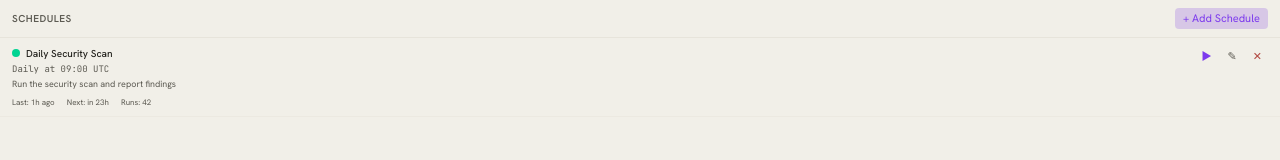
ScheduleTab › shows error when toggle fails
This screenshot has width=1280, height=160.
Click the button named "click to disable".
click(16, 53)  # box [12,49,20,57]
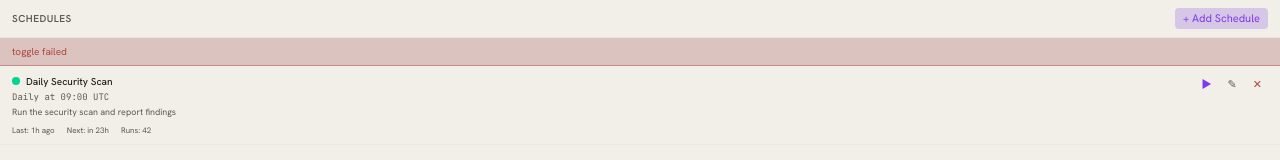
Result: the text "toggle failed" is shown at [0,38,1279,66]
